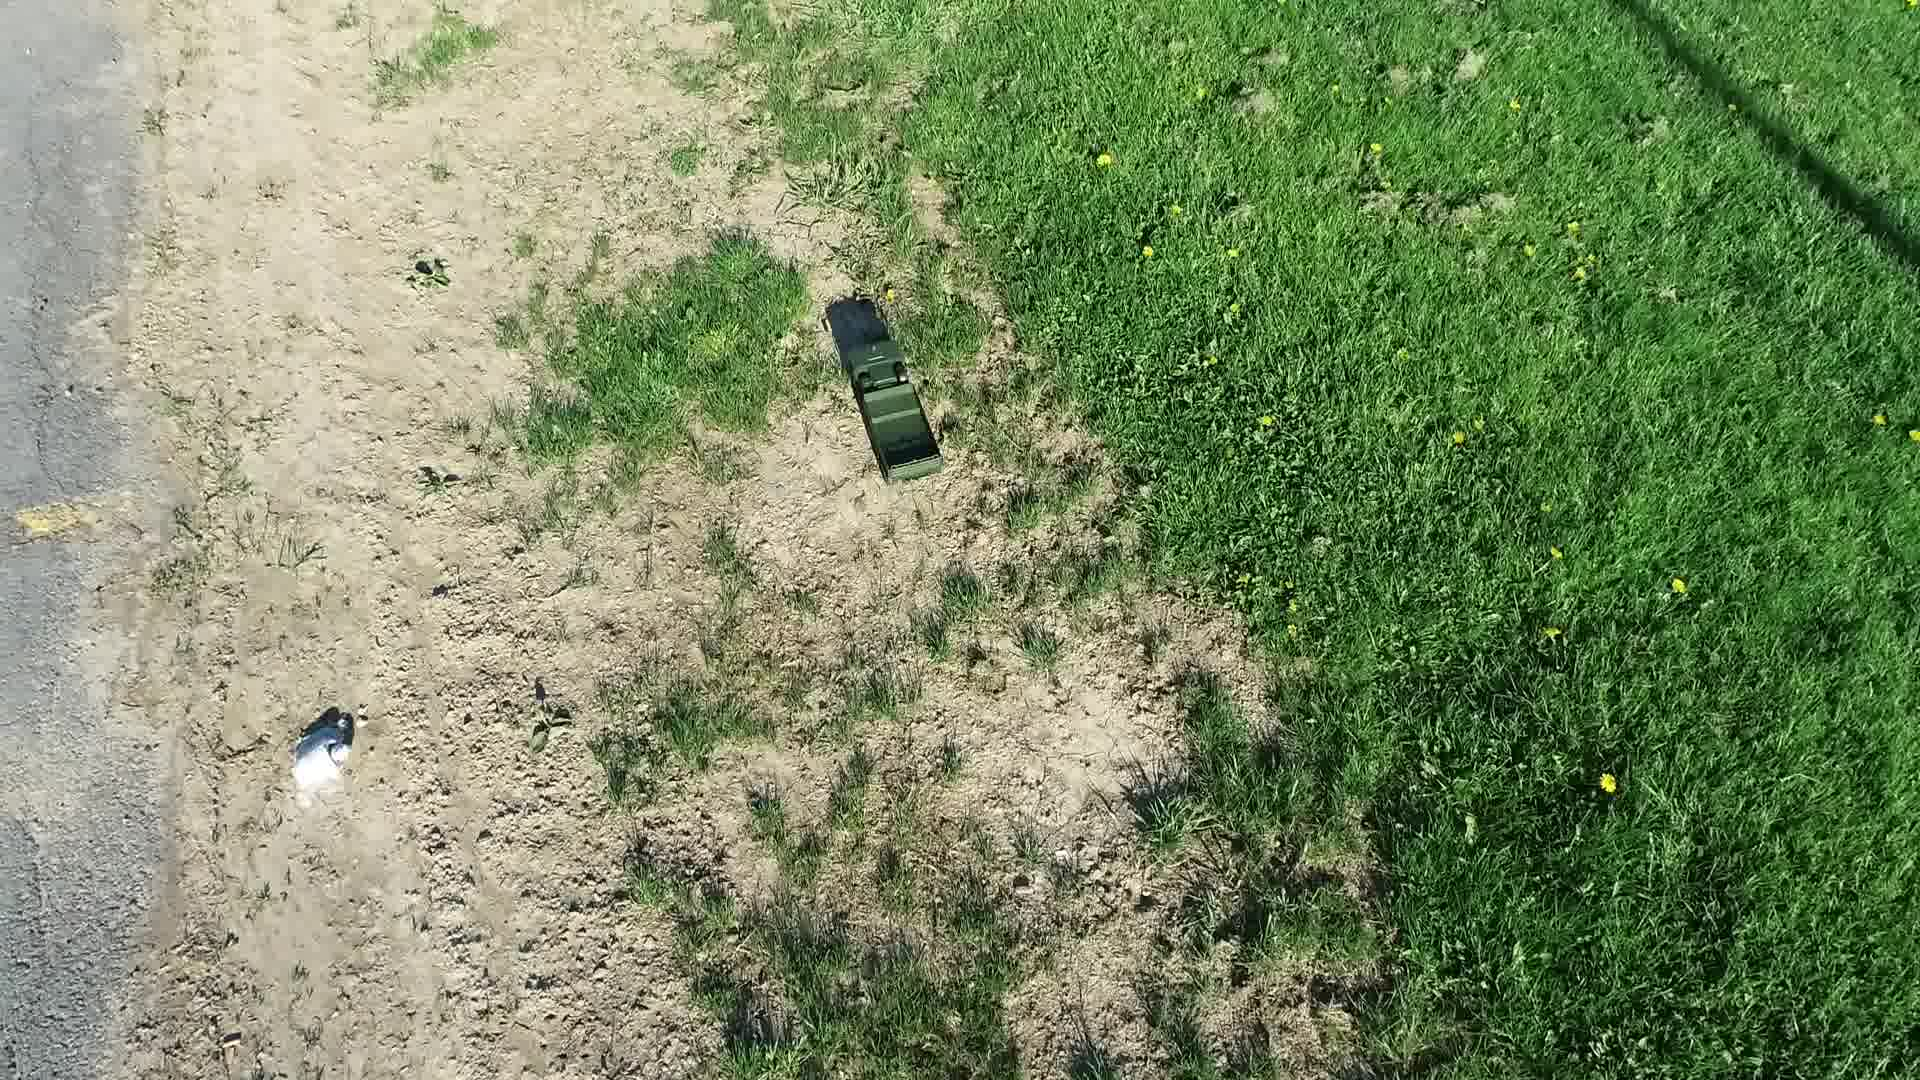transporter9: (836, 335, 959, 495)
